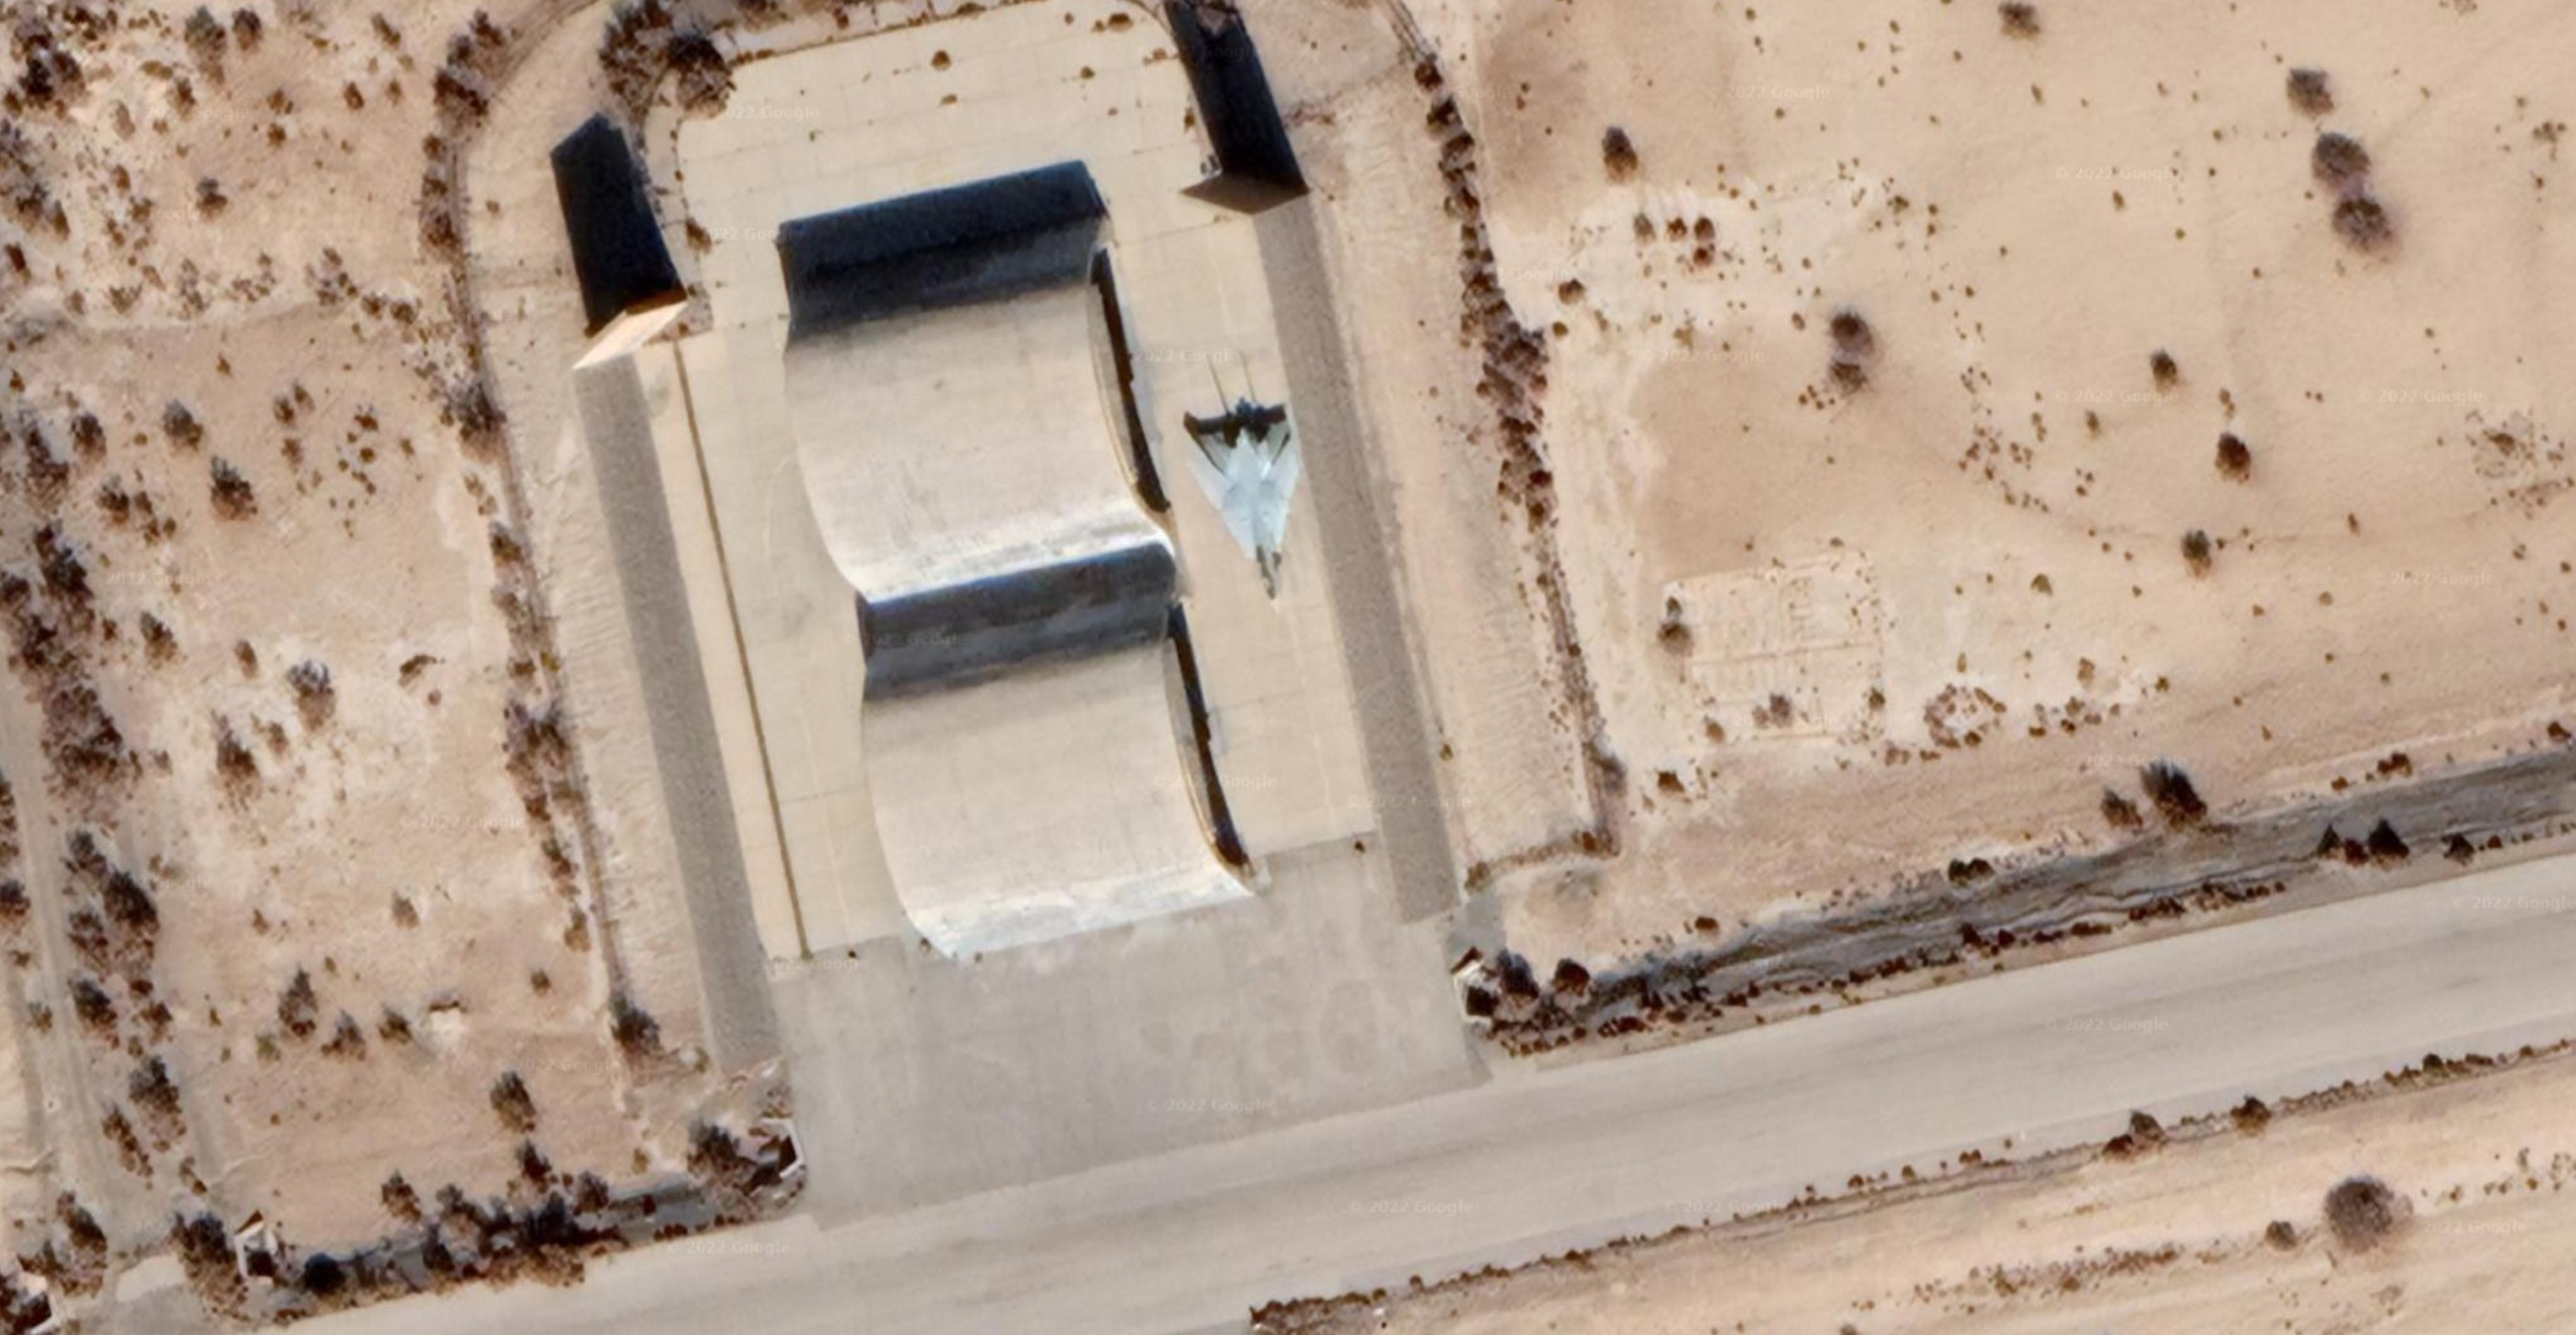F14: (1182, 392, 1304, 616)
